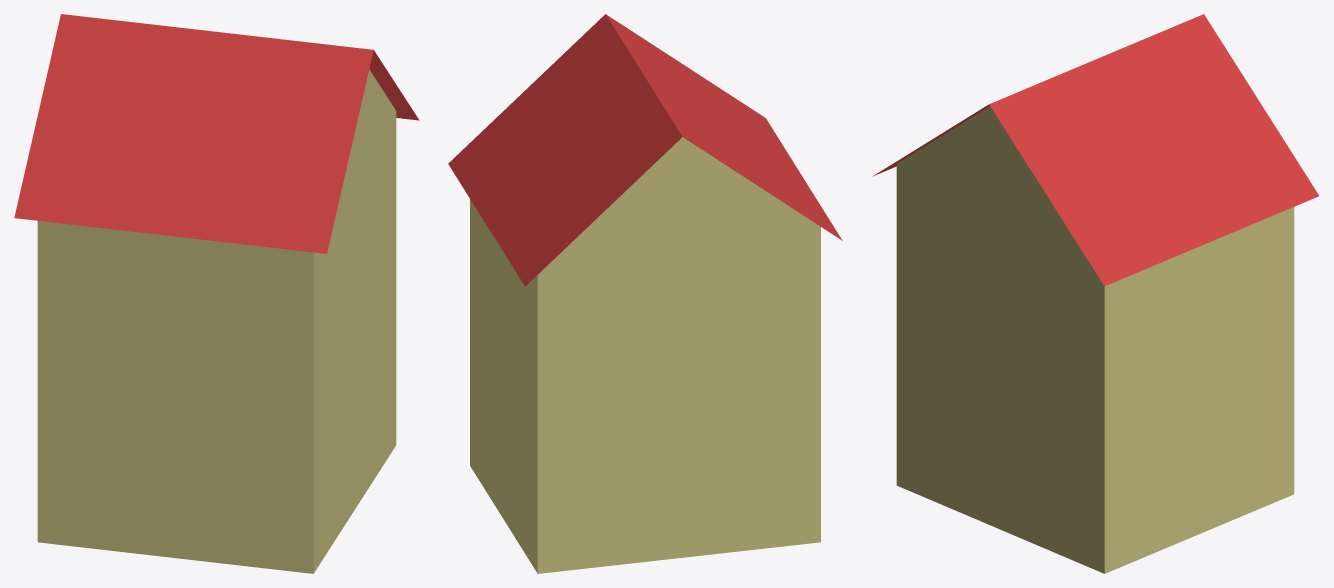
3 renders of one model, left to right at view 1: azimuth 30°, elevation 25°; view 2: azimuth 150°, elevation 25°; view 3: azimuth 270°, elevation 25°, orthographic. The views are drawn at different scales.
Size of the model in its own units: 12.55 by 12.54 by 13.32.
